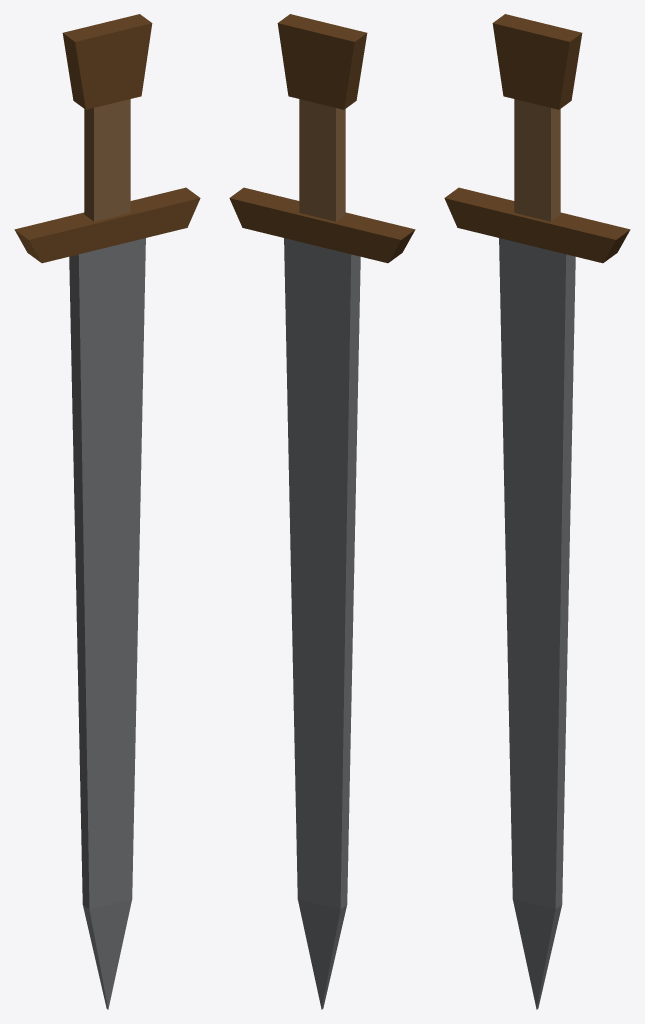
The model's file is Sword_2_Brown.fbx.
3 views of the same model, side by side, from view 1: azimuth 30°, elevation 25°; view 2: azimuth 150°, elevation 25°; view 3: azimuth 330°, elevation 25° (orthographic).
Visible parts, largest first — view 1: Sword_2_Brown_Part_1, Sword_2_Brown_Part_2, Sword_2_Brown_Part_3; view 2: Sword_2_Brown_Part_1, Sword_2_Brown_Part_2, Sword_2_Brown_Part_3; view 3: Sword_2_Brown_Part_1, Sword_2_Brown_Part_2, Sword_2_Brown_Part_3.
Boxes of the visible parts, box(x1,y1,x2,y2) form: Sword_2_Brown_Part_1: box(69, 238, 145, 1009); Sword_2_Brown_Part_2: box(14, 14, 200, 263); Sword_2_Brown_Part_3: box(84, 99, 130, 221); Sword_2_Brown_Part_1: box(284, 238, 360, 1009); Sword_2_Brown_Part_2: box(229, 14, 415, 263); Sword_2_Brown_Part_3: box(299, 99, 345, 221); Sword_2_Brown_Part_1: box(499, 238, 575, 1009); Sword_2_Brown_Part_2: box(444, 14, 630, 263); Sword_2_Brown_Part_3: box(514, 99, 560, 221).
Size of the model in its own units: 22.01 by 120 by 3.2.
